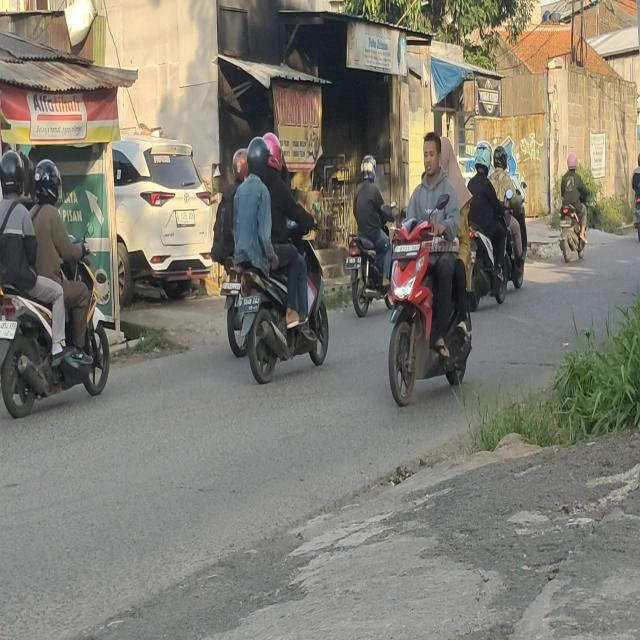helmet: (0, 150, 24, 198), (37, 161, 61, 203), (246, 137, 269, 176), (264, 133, 284, 171), (475, 142, 492, 172), (232, 149, 249, 178), (361, 154, 377, 182), (493, 146, 508, 166), (568, 153, 577, 170)
no-helmet: (421, 134, 440, 174), (441, 137, 456, 170)
